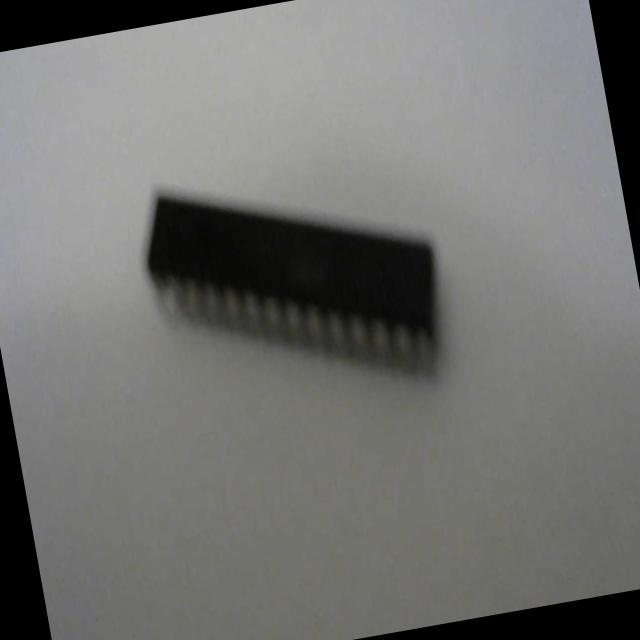atmega: (130, 138, 458, 428)
